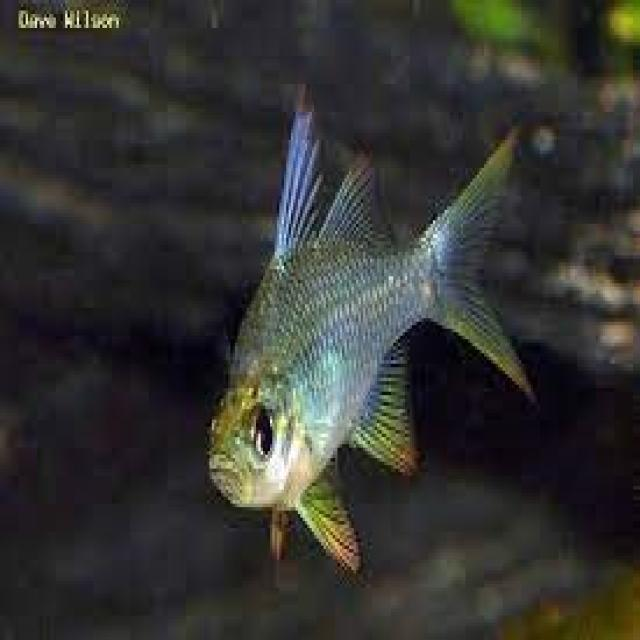Glass-Perchlet: (172, 101, 540, 593)
